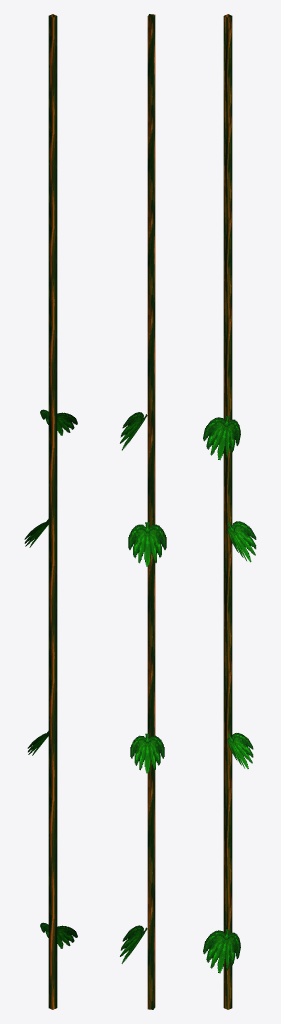
The model's file is INST_OH_VINE.fbx.
The picture shows the model from 3 angles, left to right: view 1: azimuth 90°, elevation 25°; view 2: azimuth 210°, elevation 25°; view 3: azimuth 270°, elevation 25°; orthographic projection.
Visible parts, largest first — view 1: INST_OH_VINE; view 2: INST_OH_VINE; view 3: INST_OH_VINE.
Part boxes in pixels (x1,y1,x2,y2): INST_OH_VINE: (24, 14, 77, 1009); INST_OH_VINE: (120, 14, 166, 1009); INST_OH_VINE: (203, 14, 256, 1009).
Bounding box in the file's own units: 3269 × 68009 × 4306.
Materials: 2 (2 with a texture image).
